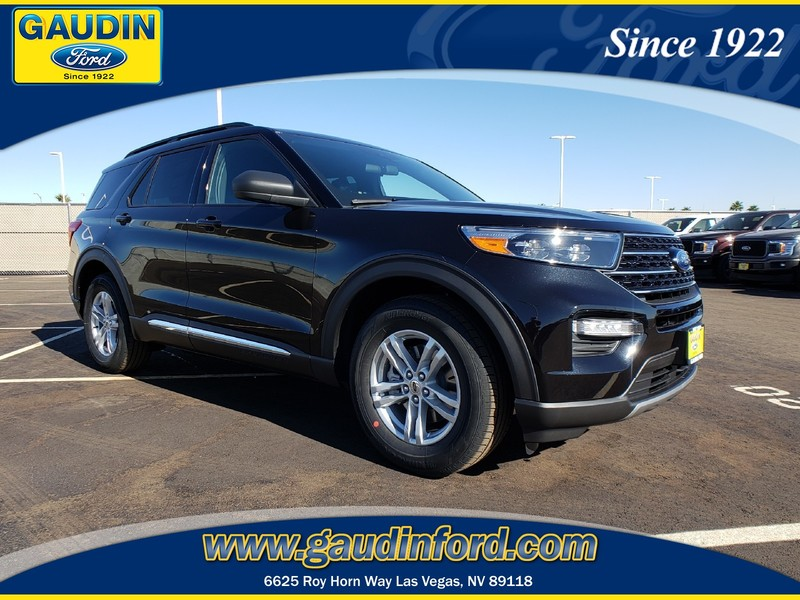Ford Explorer: (68, 121, 707, 479)
